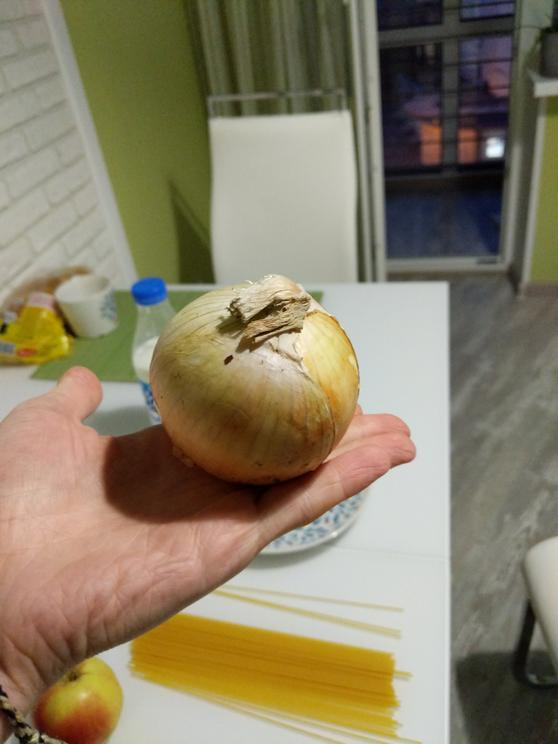milk: (115, 271, 173, 423)
onion: (148, 272, 364, 484)
spaghetti: (127, 588, 430, 729)
